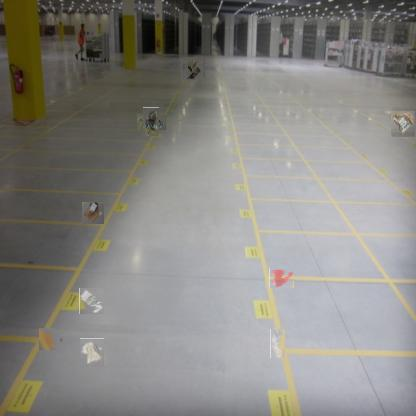dirty: (79, 340, 106, 366), (79, 288, 104, 314), (391, 111, 415, 137), (140, 111, 163, 133), (182, 57, 204, 79), (82, 202, 104, 224), (270, 328, 285, 358)
liquid: (269, 268, 294, 288), (39, 328, 55, 350)
